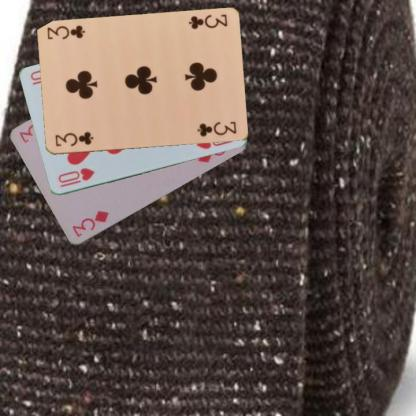10h: (56, 166, 96, 188)
3c: (186, 12, 228, 31), (53, 129, 94, 148)
3d: (69, 208, 110, 239)
